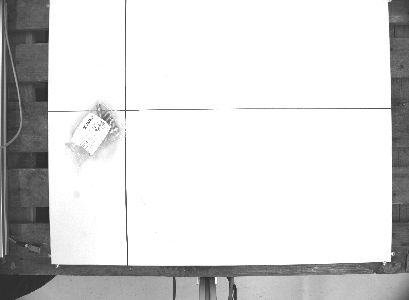t2: (58, 90, 138, 168)
